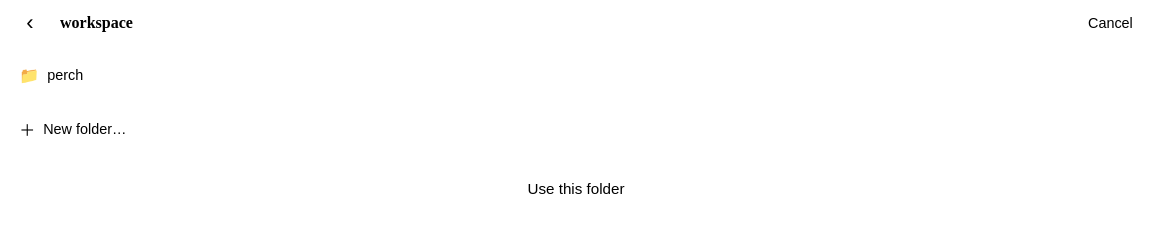
Scenario: FolderPicker (single root) › disables Create and warns when the name matches an existing folder
This screenshot has width=1152, height=232.
Click the button "＋ New folder…" at (85, 129), box [8, 107, 1144, 151]
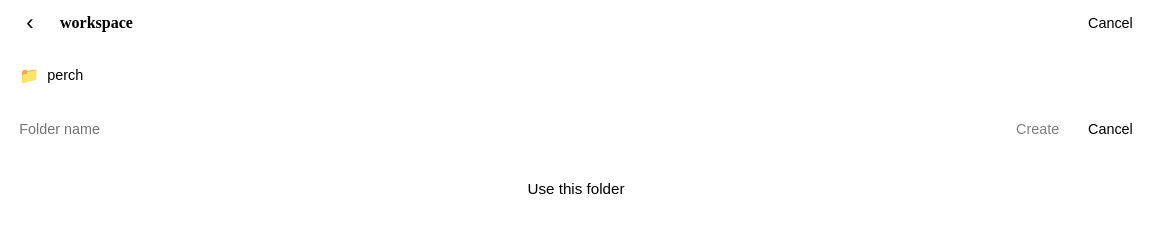
Type "perch" into the field labelled "Folder name" at (503, 129), box [8, 107, 998, 151]
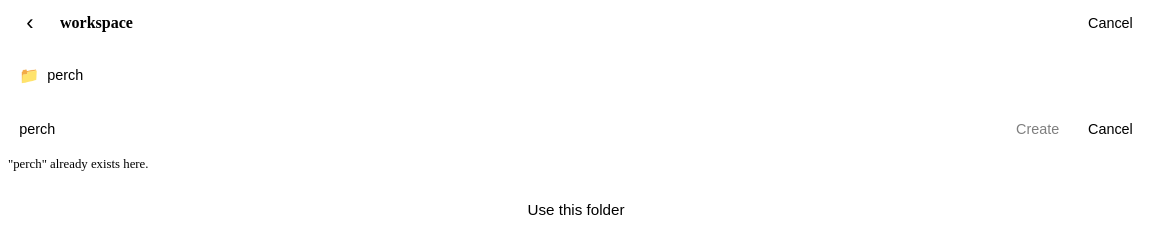
Expected: the button "Create" is disabled, [1005, 107, 1070, 151]
Expected: the text "\"perch\" already exists here." is shown, [8, 157, 148, 171]
